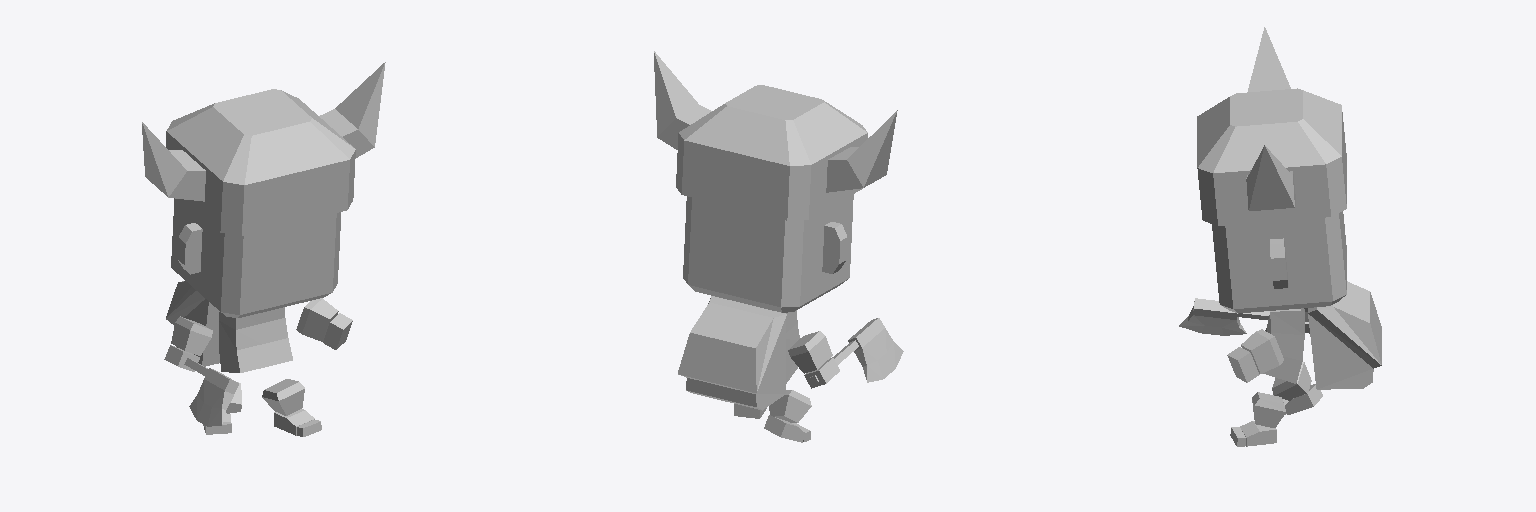
File: mini_knight_000001.obj
3 views of the same model, side by side, from view 1: azimuth 30°, elevation 25°; view 2: azimuth 150°, elevation 25°; view 3: azimuth 270°, elevation 25° (orthographic).
Visible parts, largest first — view 1: cap_Object01_Material__3, Mesh_objheadusOBJexport_Material, back_Object03_Material__3, axe_Object02_Material__3; view 2: cap_Object01_Material__3, Mesh_objheadusOBJexport_Material, back_Object03_Material__3, axe_Object02_Material__3; view 3: cap_Object01_Material__3, Mesh_objheadusOBJexport_Material, back_Object03_Material__3, axe_Object02_Material__3.
Part boxes in pixels (left/top/right/bottom): cap_Object01_Material__3: left=142, top=62, right=385, bottom=235; Mesh_objheadusOBJexport_Material: left=164, top=198, right=352, bottom=436; back_Object03_Material__3: left=166, top=281, right=219, bottom=366; axe_Object02_Material__3: left=184, top=358, right=238, bottom=426; cap_Object01_Material__3: left=654, top=51, right=897, bottom=220; Mesh_objheadusOBJexport_Material: left=683, top=194, right=853, bottom=442; back_Object03_Material__3: left=678, top=296, right=786, bottom=410; axe_Object02_Material__3: left=810, top=318, right=903, bottom=383; cap_Object01_Material__3: left=1197, top=27, right=1346, bottom=225; Mesh_objheadusOBJexport_Material: left=1212, top=211, right=1346, bottom=446; back_Object03_Material__3: left=1308, top=281, right=1381, bottom=389; axe_Object02_Material__3: left=1179, top=298, right=1269, bottom=335.
Size of the model in its own units: 1.94 by 2.59 by 1.4.